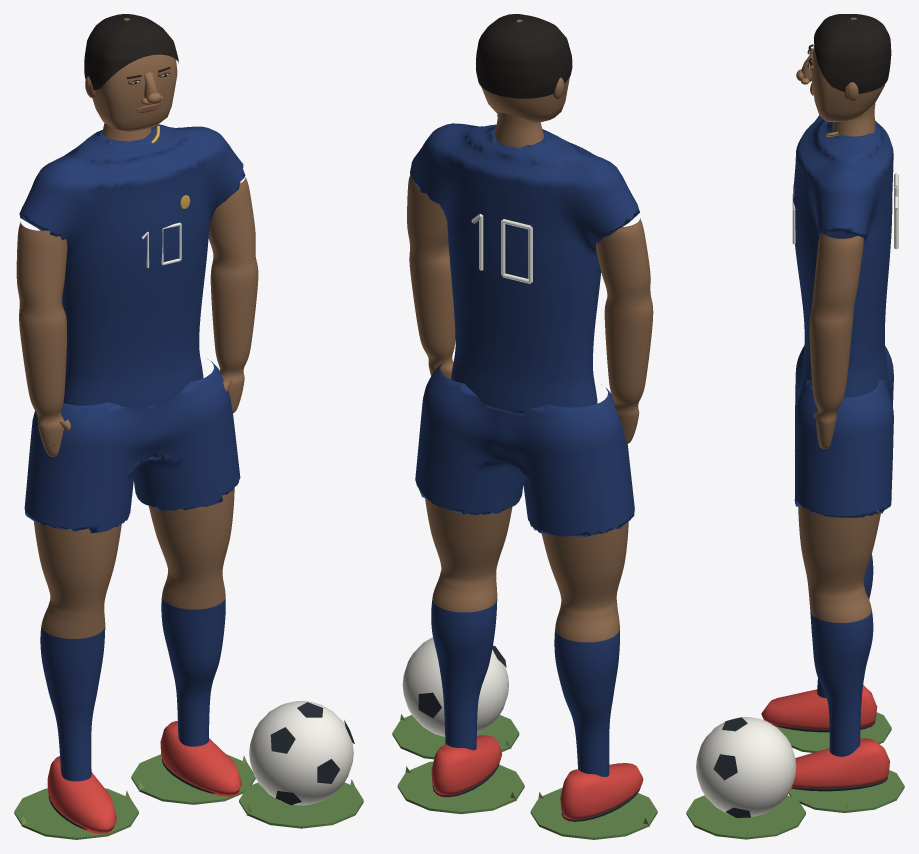
The model's file is mbappe.glb.
3 views of the same model, side by side, from view 1: azimuth 30°, elevation 25°; view 2: azimuth 150°, elevation 25°; view 3: azimuth 270°, elevation 25° (orthographic). The views are drawn at different scales.
Parts seen in each view (by area): view 1: jersey_navy, shorts_navy, arms_dark, legs_dark, legs_navy, turf_grass, football_white, boots_red, head_dark, hair_cap_blackHair, football_panels_ink; view 2: jersey_navy, shorts_navy, arms_dark, legs_dark, legs_navy, turf_grass, hair_cap_blackHair, boots_red, football_white, head_dark, neck_dark, back_number_white (+1 smaller); view 3: jersey_navy, shorts_navy, arms_dark, football_white, legs_dark, turf_grass, legs_navy, boots_red, hair_cap_blackHair, head_dark, football_panels_ink, neck_dark (+1 smaller).
Boxes of the visible parts, x1,y1,x2,y2 form: jersey_navy: [19, 124, 245, 407]; shorts_navy: [24, 359, 240, 533]; arms_dark: [16, 177, 258, 456]; legs_dark: [34, 488, 234, 638]; legs_navy: [40, 597, 225, 781]; turf_grass: [14, 754, 363, 839]; football_white: [249, 701, 353, 805]; boots_red: [47, 720, 241, 834]; head_dark: [92, 18, 177, 132]; hair_cap_blackHair: [84, 14, 178, 90]; football_panels_ink: [270, 702, 354, 805]; jersey_navy: [410, 123, 639, 413]; shorts_navy: [415, 361, 634, 536]; arms_dark: [407, 175, 653, 443]; legs_dark: [425, 498, 628, 642]; legs_navy: [431, 599, 619, 776]; turf_grass: [392, 715, 657, 839]; hair_cap_blackHair: [476, 14, 572, 98]; boots_red: [431, 735, 643, 822]; football_white: [402, 637, 508, 736]; head_dark: [481, 19, 569, 122]; neck_dark: [494, 112, 543, 147]; back_number_white: [471, 214, 532, 283]; jersey_navy: [793, 115, 893, 397]; shorts_navy: [794, 346, 893, 517]; arms_dark: [809, 232, 863, 448]; football_white: [696, 717, 796, 816]; legs_dark: [798, 505, 880, 622]; turf_grass: [686, 712, 904, 839]; legs_navy: [810, 554, 873, 756]; boots_red: [761, 685, 889, 790]; hair_cap_blackHair: [814, 14, 891, 93]; head_dark: [811, 17, 884, 121]; football_panels_ink: [713, 717, 750, 817]; neck_dark: [832, 102, 875, 136].
Size of the model in its own units: 0.7009 by 1.78 by 0.4758.
